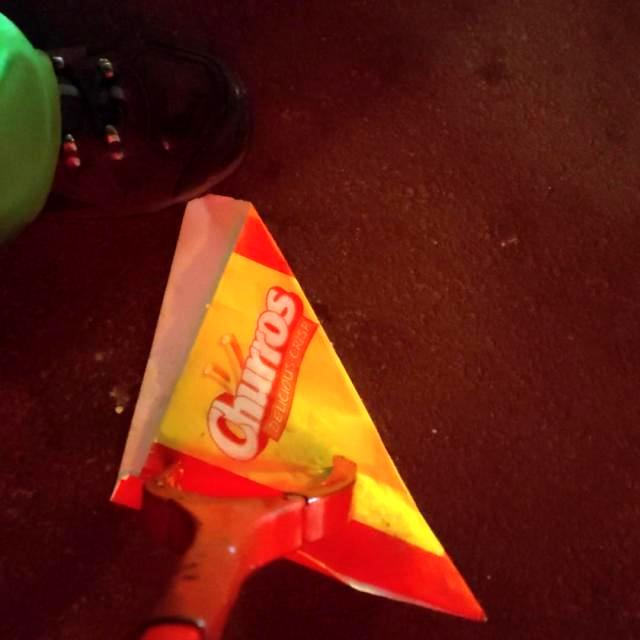Paper: (106, 190, 492, 626)
